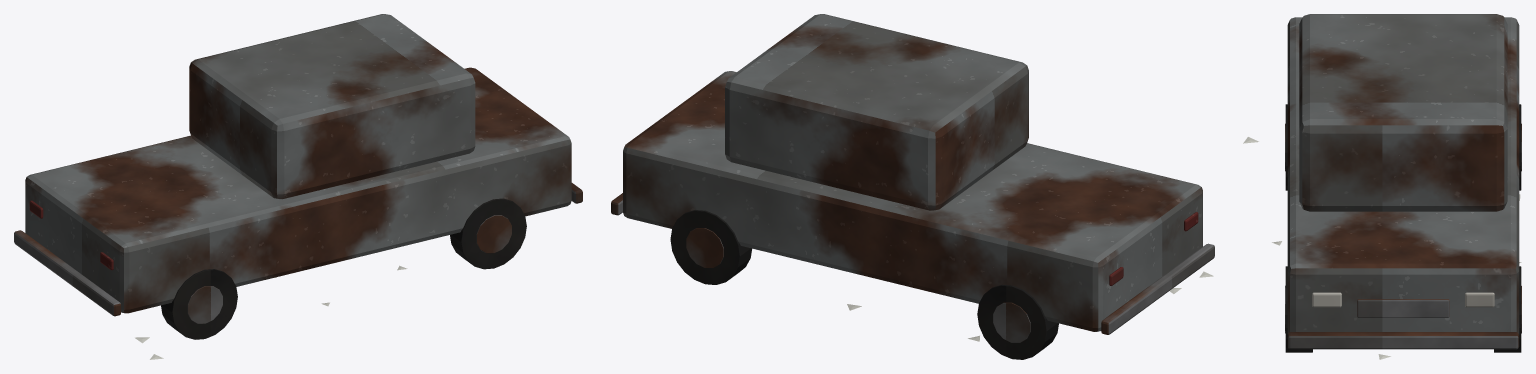
File: JV05_car_smashed_windows_v3.glb
3 renders of one model, left to right at view 1: azimuth 30°, elevation 25°; view 2: azimuth 150°, elevation 25°; view 3: azimuth 270°, elevation 25°, orthographic. The views are drawn at different scales.
Parts seen in each view (by area): view 1: JV05_car_smashed_windows_v3; view 2: JV05_car_smashed_windows_v3; view 3: JV05_car_smashed_windows_v3.
Boxes of the visible parts, x1,y1,x2,y2 form: JV05_car_smashed_windows_v3: (14, 14, 582, 359); JV05_car_smashed_windows_v3: (611, 14, 1214, 359); JV05_car_smashed_windows_v3: (1243, 14, 1521, 359).
Bounding box in the file's own units: 4.4 × 1.71 × 1.97.
Materials: 6 (6 with a texture image).
